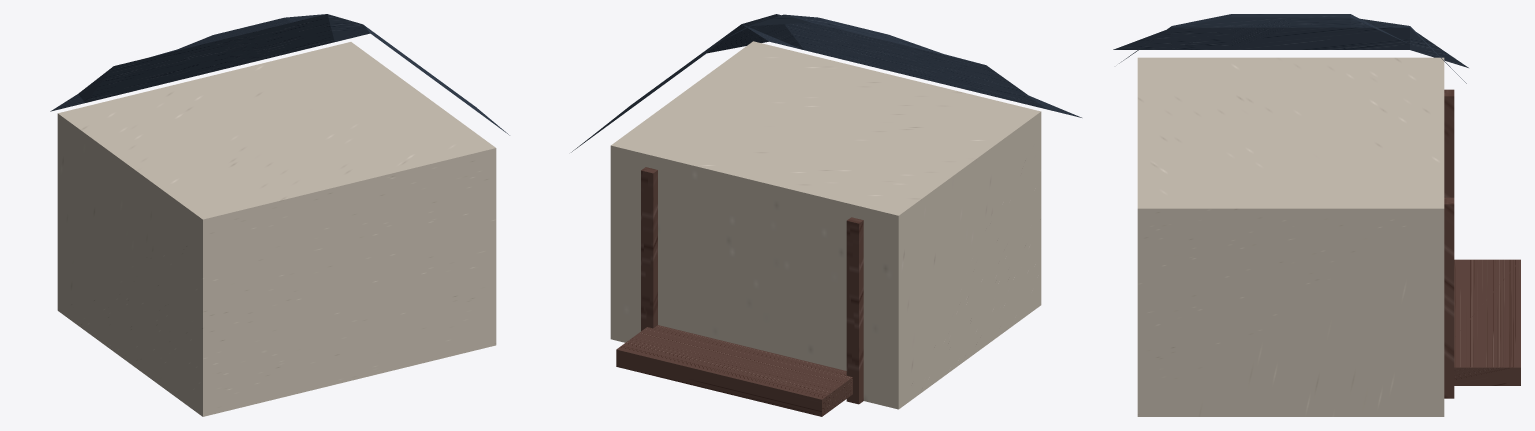
File: shogun_market_shop_lod1.glb
The picture shows the model from 3 angles, left to right: view 1: azimuth 30°, elevation 25°; view 2: azimuth 150°, elevation 25°; view 3: azimuth 270°, elevation 25°; orthographic projection. The views are drawn at different scales.
Visible parts, largest first — view 1: shogun_market_shop_000, shogun_market_shop_001; view 2: shogun_market_shop_000, shogun_market_shop_009, shogun_market_shop_001, shogun_market_shop_004, shogun_market_shop_005; view 3: shogun_market_shop_000, shogun_market_shop_001, shogun_market_shop_009, shogun_market_shop_005, shogun_market_shop_004.
Part boxes in pixels (left/top/right/bottom): shogun_market_shop_000: left=57, top=42, right=496, bottom=416; shogun_market_shop_001: left=50, top=14, right=509, bottom=135; shogun_market_shop_000: left=610, top=41, right=1041, bottom=409; shogun_market_shop_009: left=616, top=325, right=852, bottom=416; shogun_market_shop_001: left=571, top=14, right=1081, bottom=152; shogun_market_shop_004: left=846, top=217, right=863, bottom=404; shogun_market_shop_005: left=641, top=167, right=657, bottom=330; shogun_market_shop_000: left=1137, top=57, right=1444, bottom=416; shogun_market_shop_001: left=1113, top=14, right=1468, bottom=83; shogun_market_shop_009: left=1454, top=259, right=1520, bottom=385; shogun_market_shop_005: left=1444, top=197, right=1454, bottom=398; shogun_market_shop_004: left=1444, top=89, right=1454, bottom=197.
Size of the model in its own units: 8.5 by 6.8 by 8.
3 materials, 3 textured.
